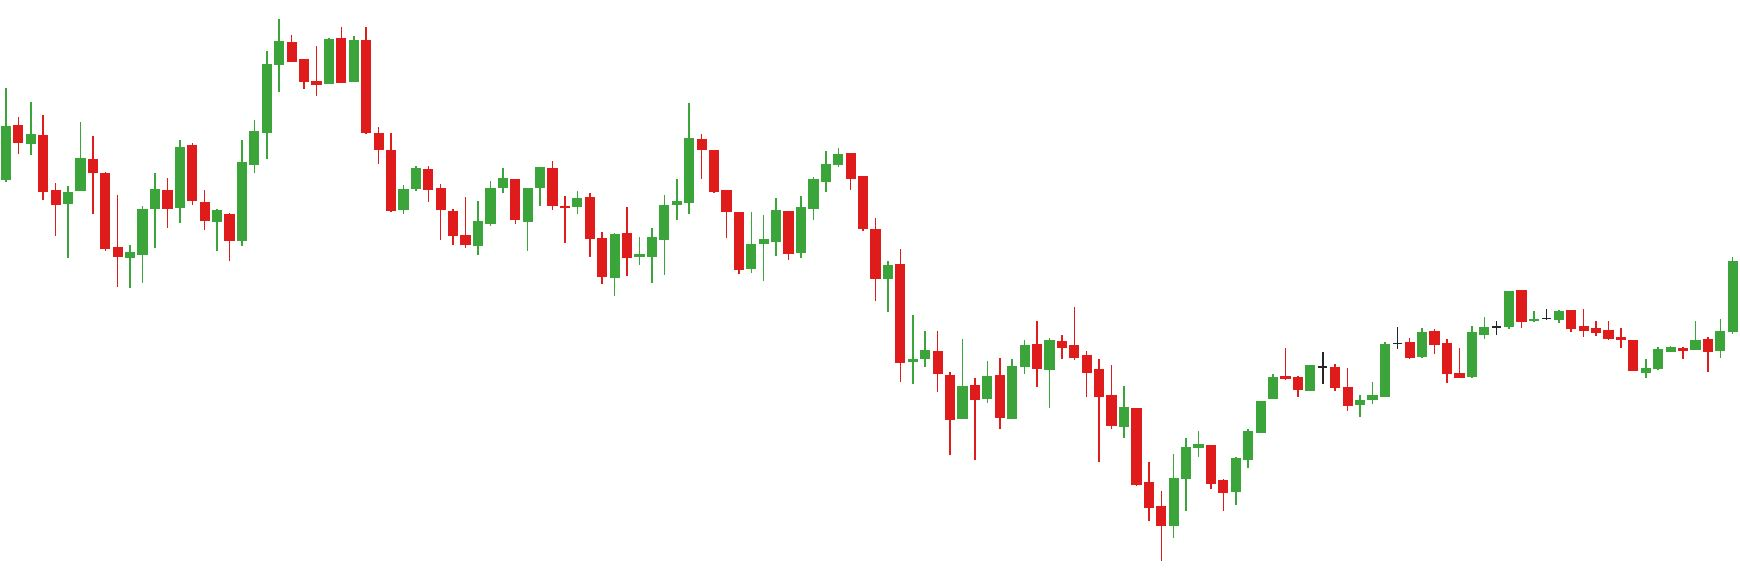sell: (499, 103, 718, 237)
